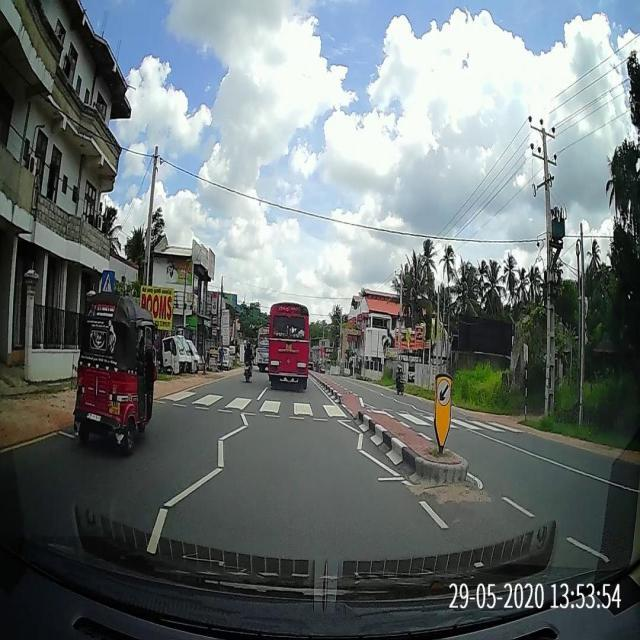Crosswalk: (153, 385, 525, 435)
